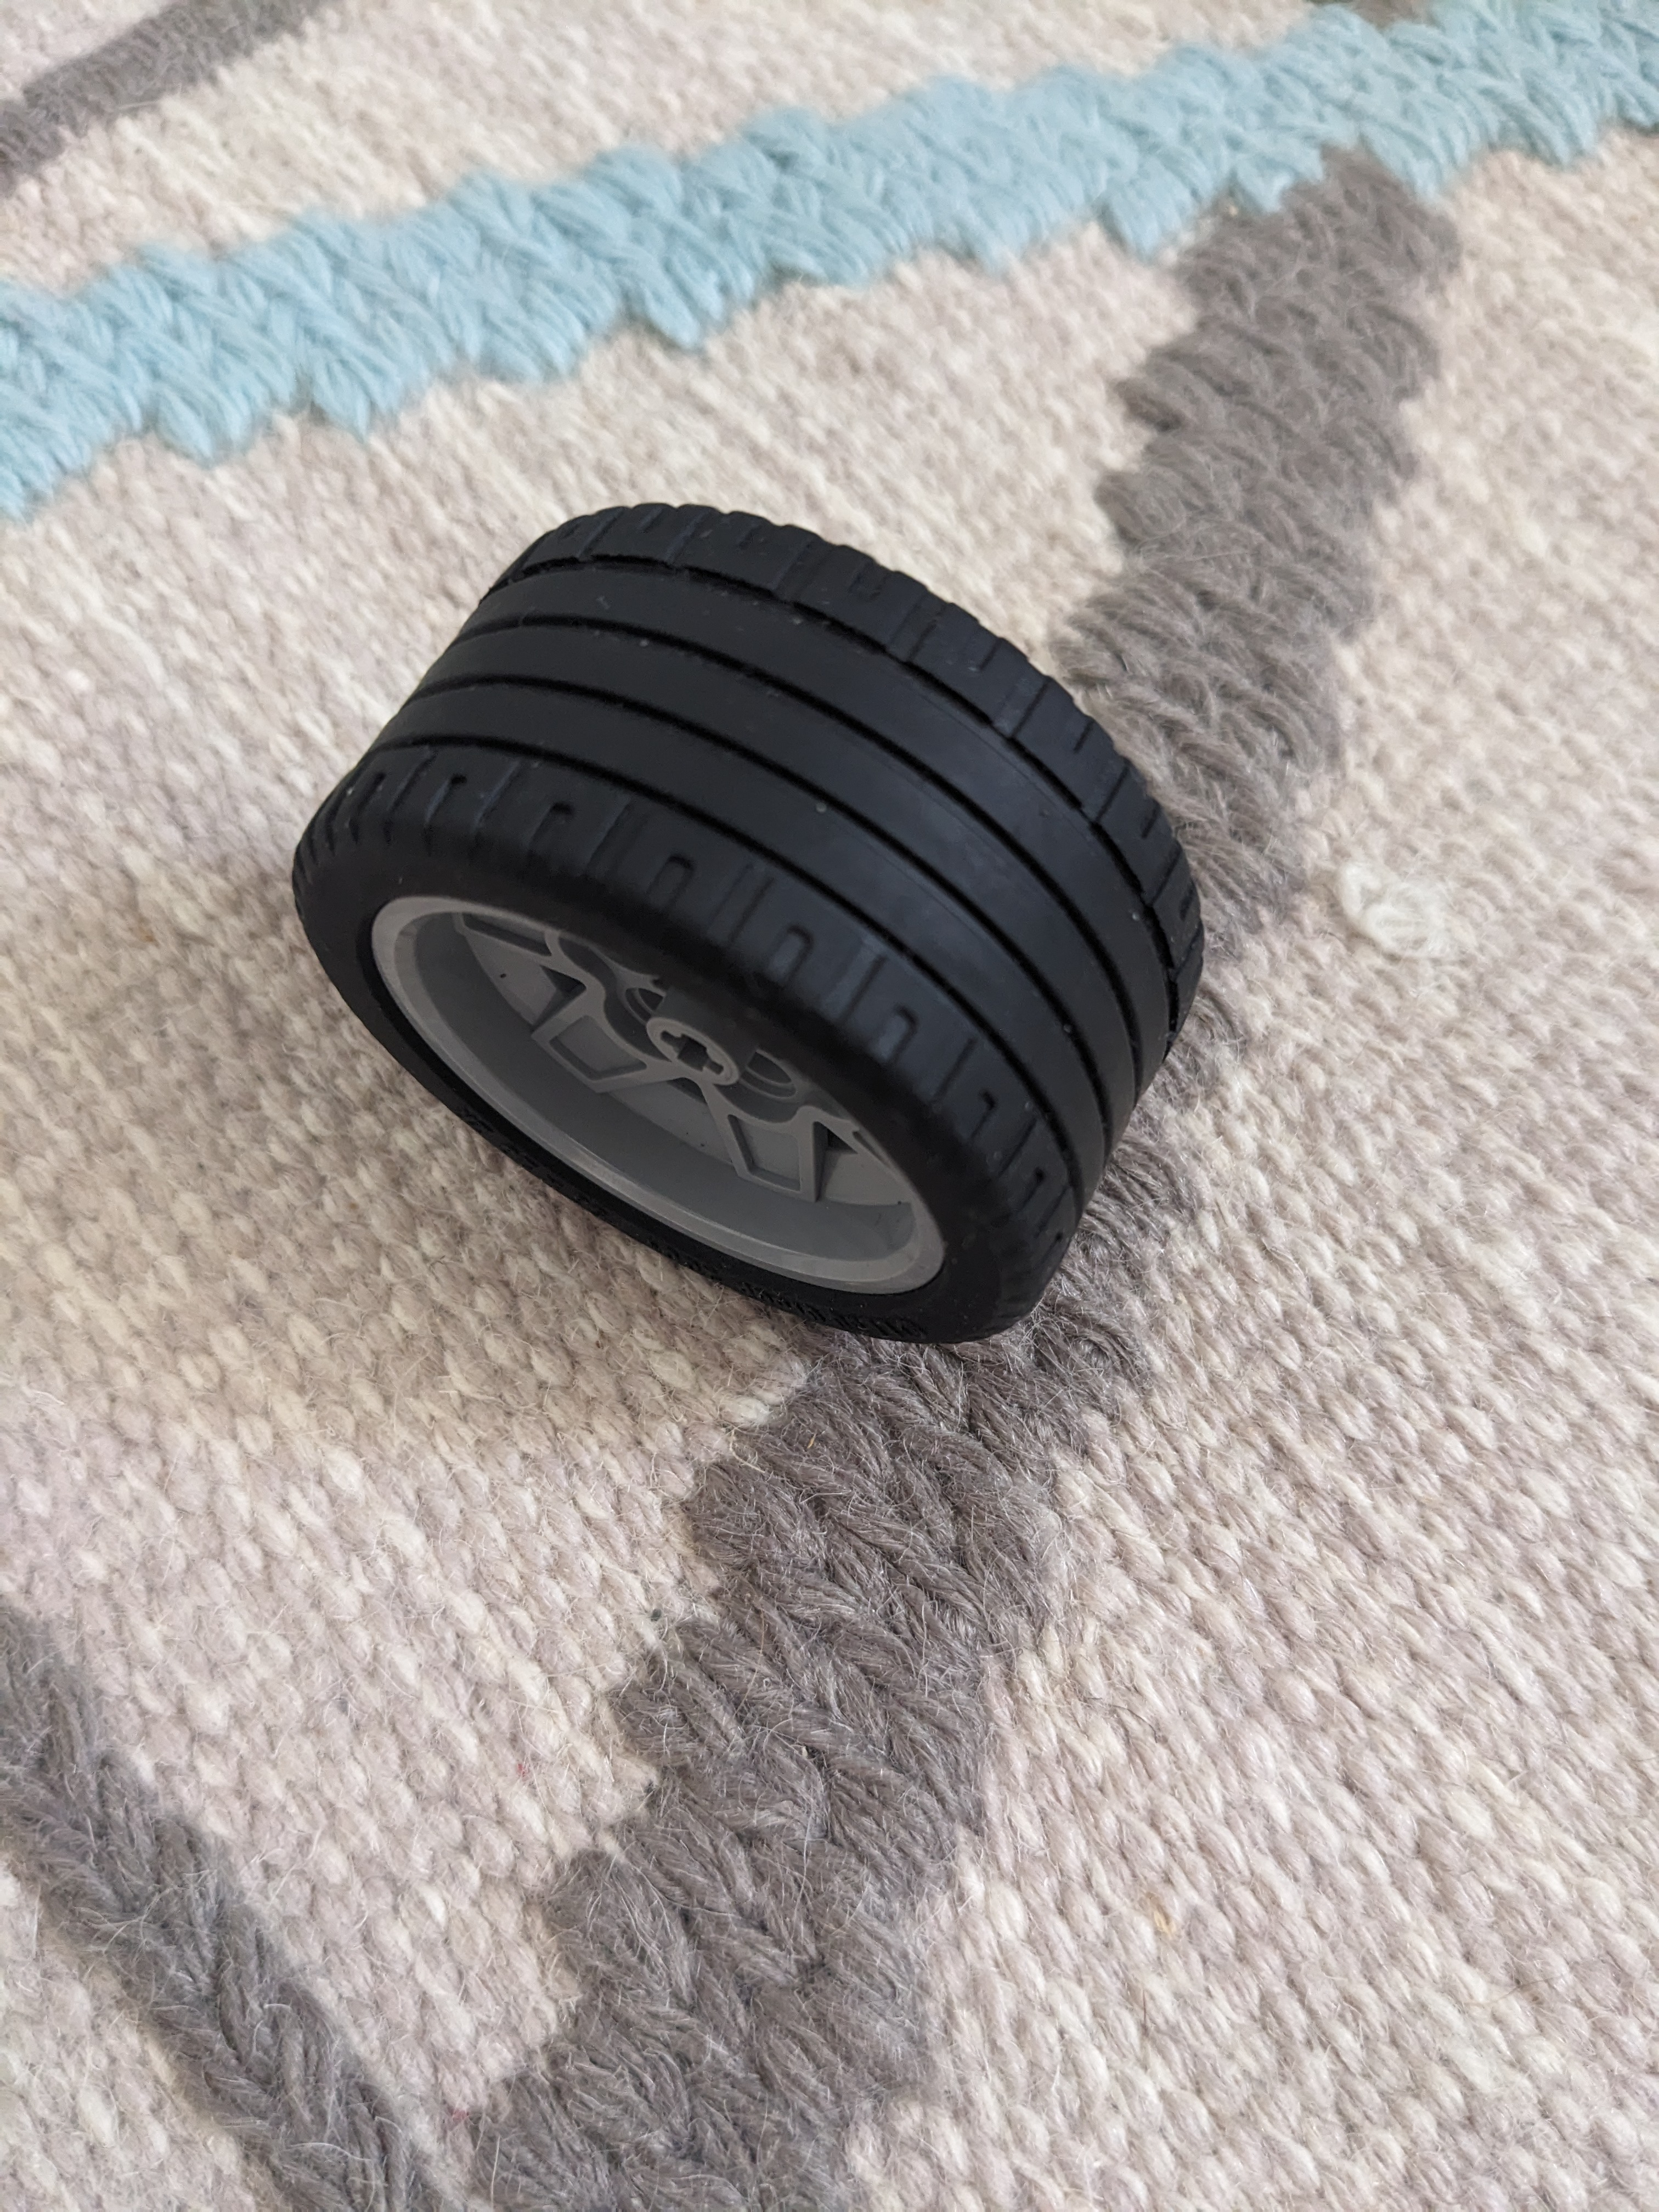Rad: (277, 472, 1229, 1367)
